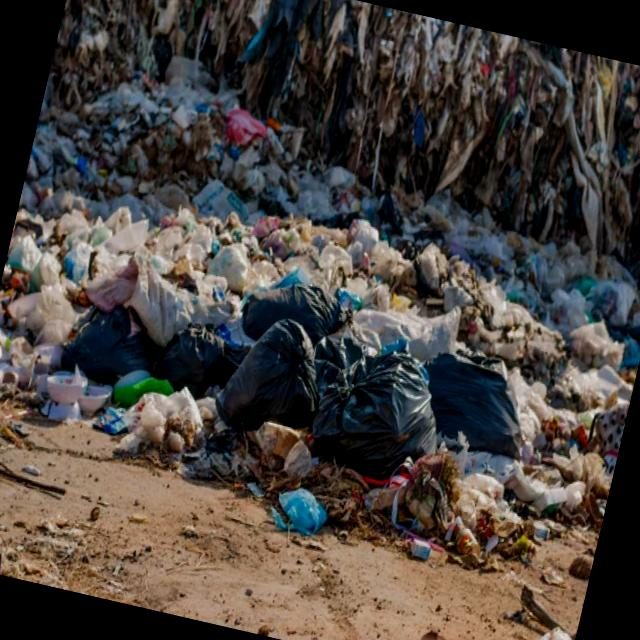garbage: (27, 50, 640, 536)
